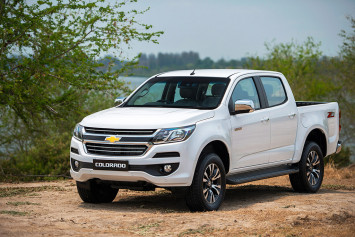pickup: (70, 67, 341, 210)
